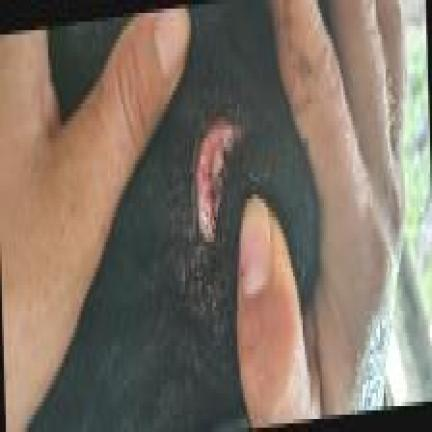goat-eye-anemia-22222222: (197, 104, 244, 246)
